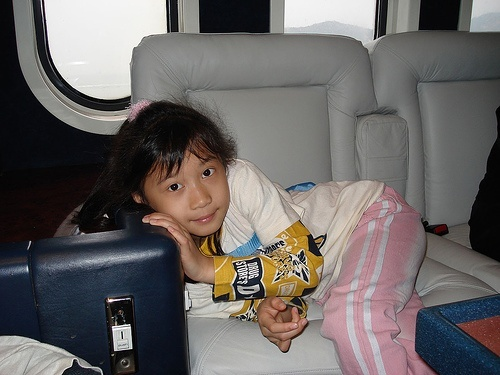head: (123, 95, 237, 242)
person: (70, 82, 482, 375)
